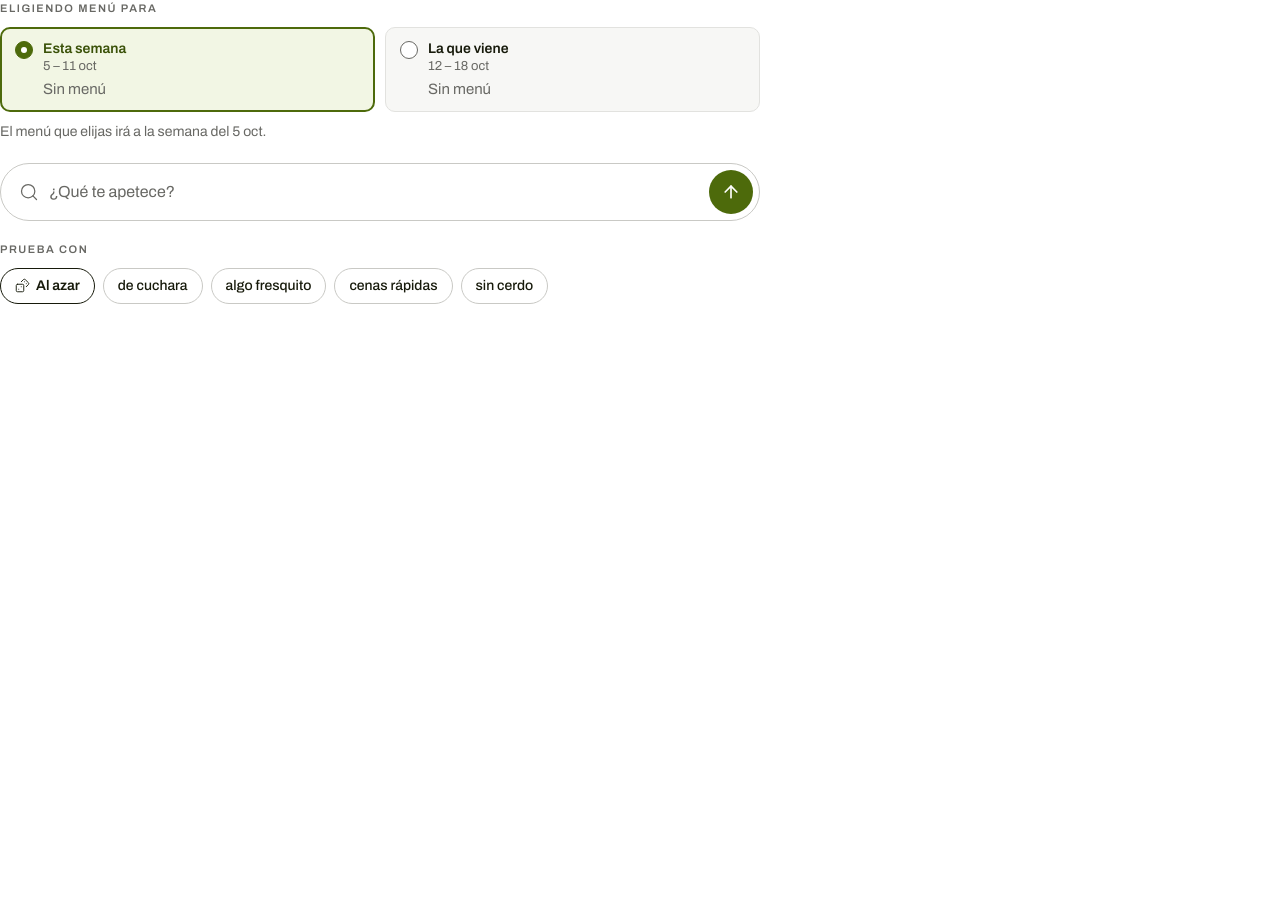
Test case: PlannerSearch › the week preview › says "Vista previa" in the preview of a card with no rank
Type "nada de cerdo" into the field at (374, 192), box 49,172 -> 699,212
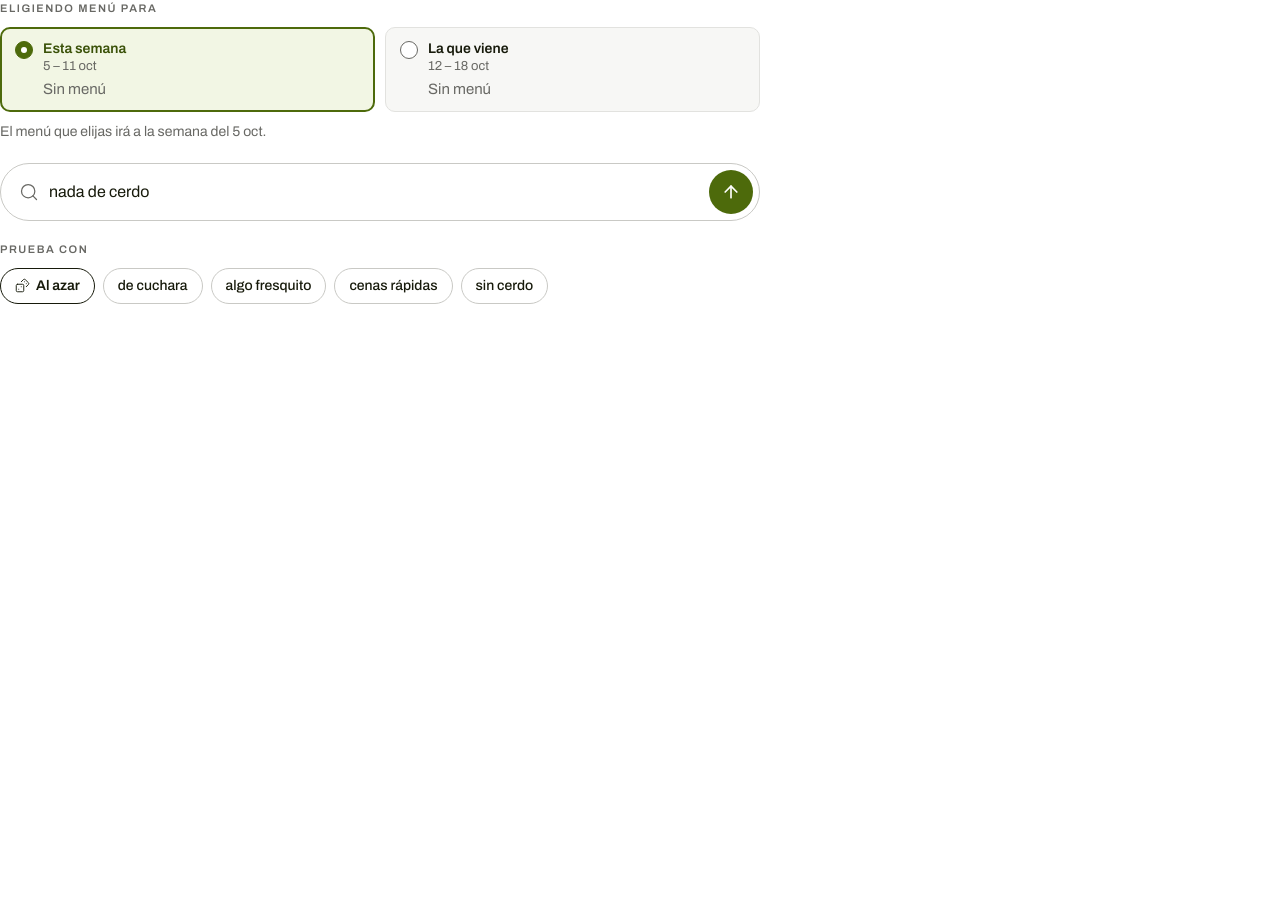
Click the button named "Buscar" at (731, 192), box 709,170 -> 753,214
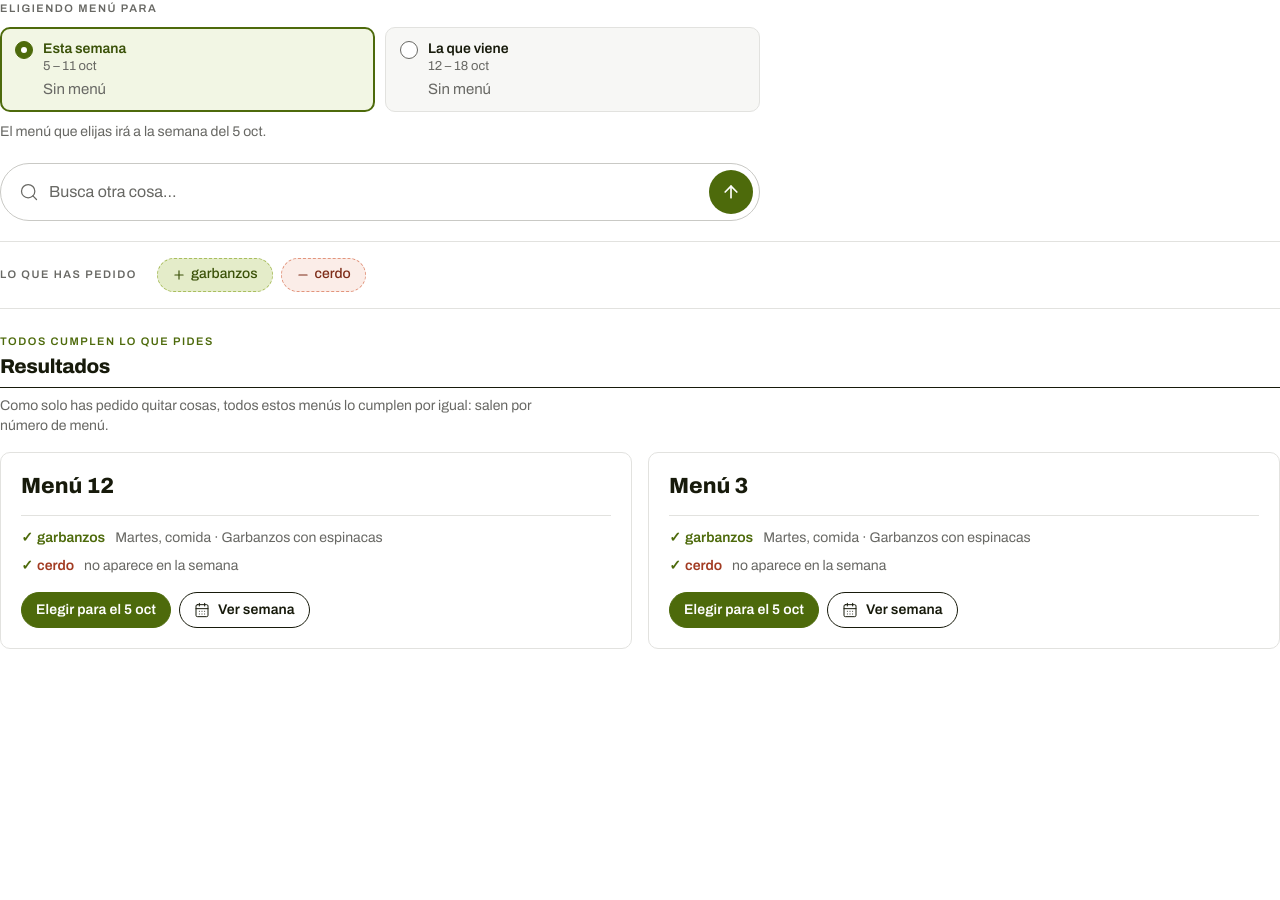
Click the button with aria-label "Ver semana del Menú" at (244, 610), box 179,592 -> 310,628
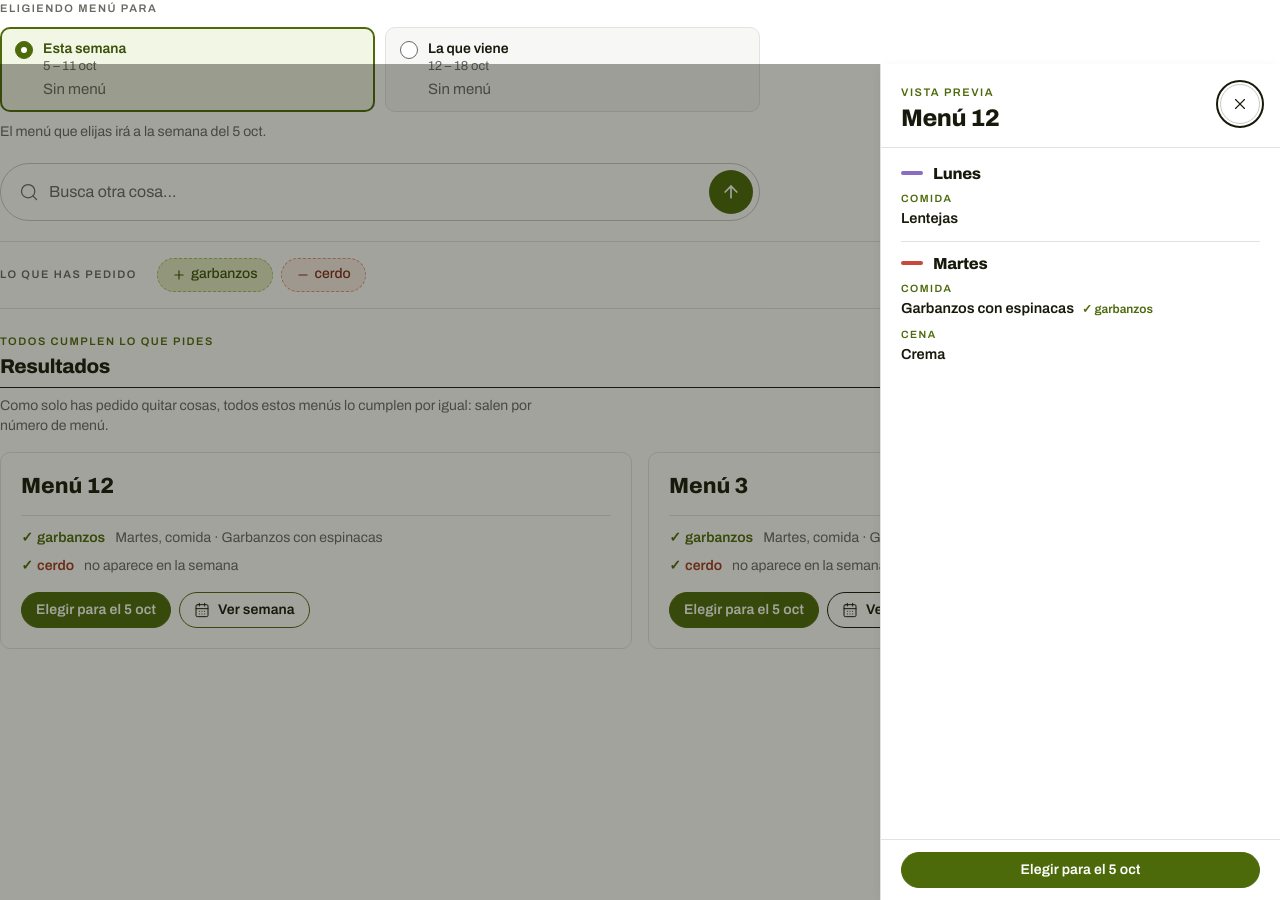
Now the text "Vista previa" is shown, box 901,86 -> 994,98
